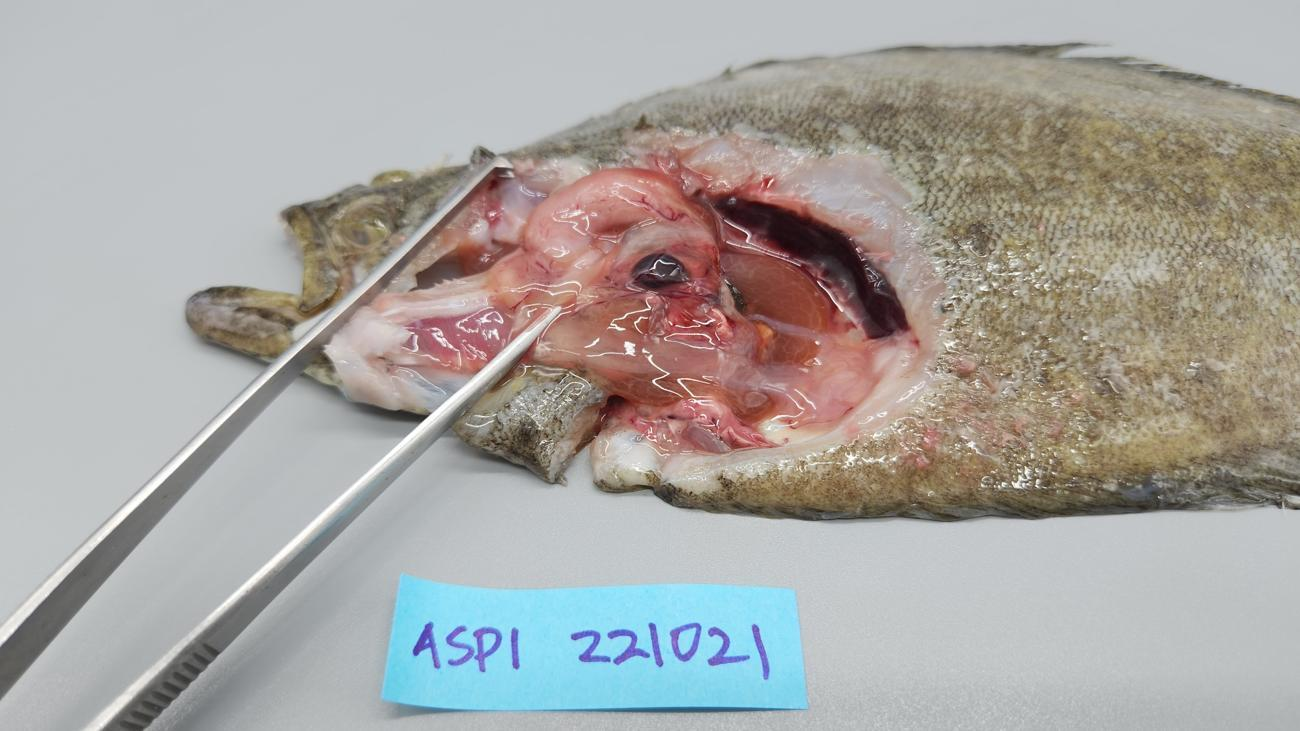SPINI: (550, 167, 706, 231)
